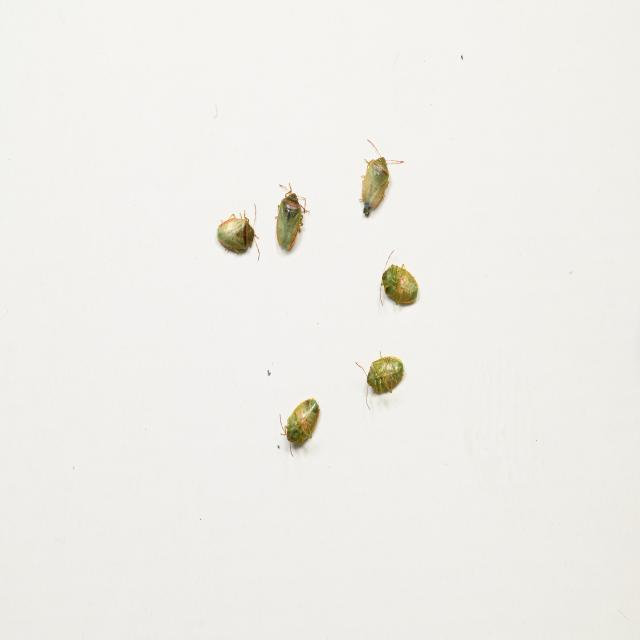stinkbug: (267, 181, 308, 261), (212, 198, 261, 264), (356, 350, 404, 410), (379, 250, 420, 308), (280, 399, 320, 457)
